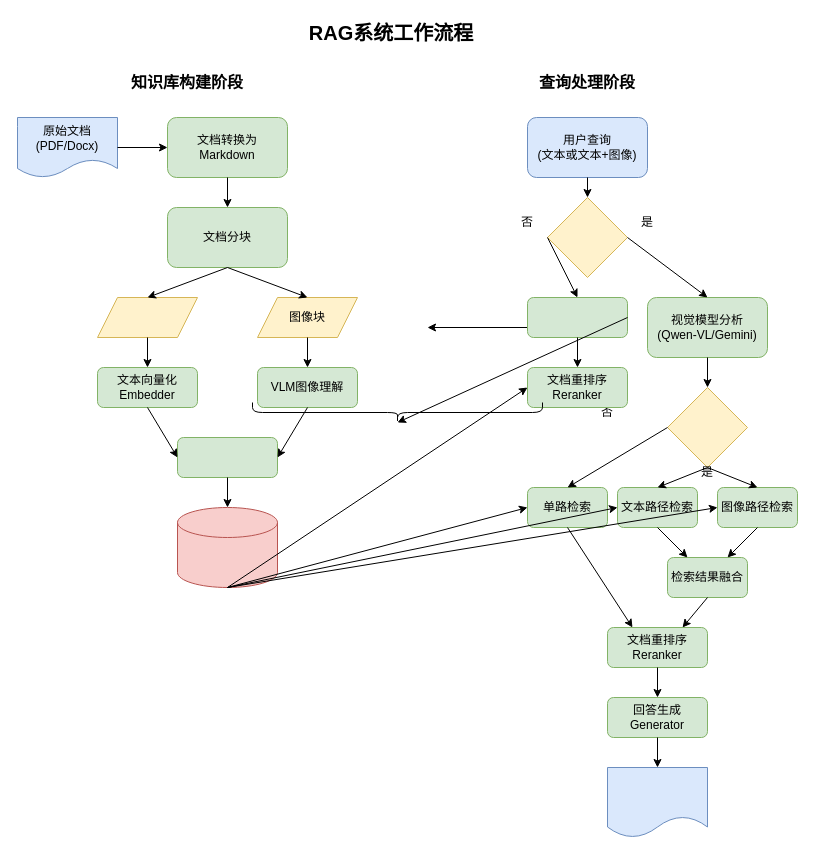
Image size: 815x855. Some labels were removed from this diagram. The shapes that lost their labels are listed below. From the top down, each one's centre as x and y in pixels, then its label:
pixel 587 237: 图像查询?
pixel 147 317: 文本块
pixel 577 317: 文本向量检索
pixel 707 427: 双路检索?
pixel 227 457: 图像向量化 Embedder
pixel 227 547: Chroma向量存储
pixel 657 802: 最终回答
